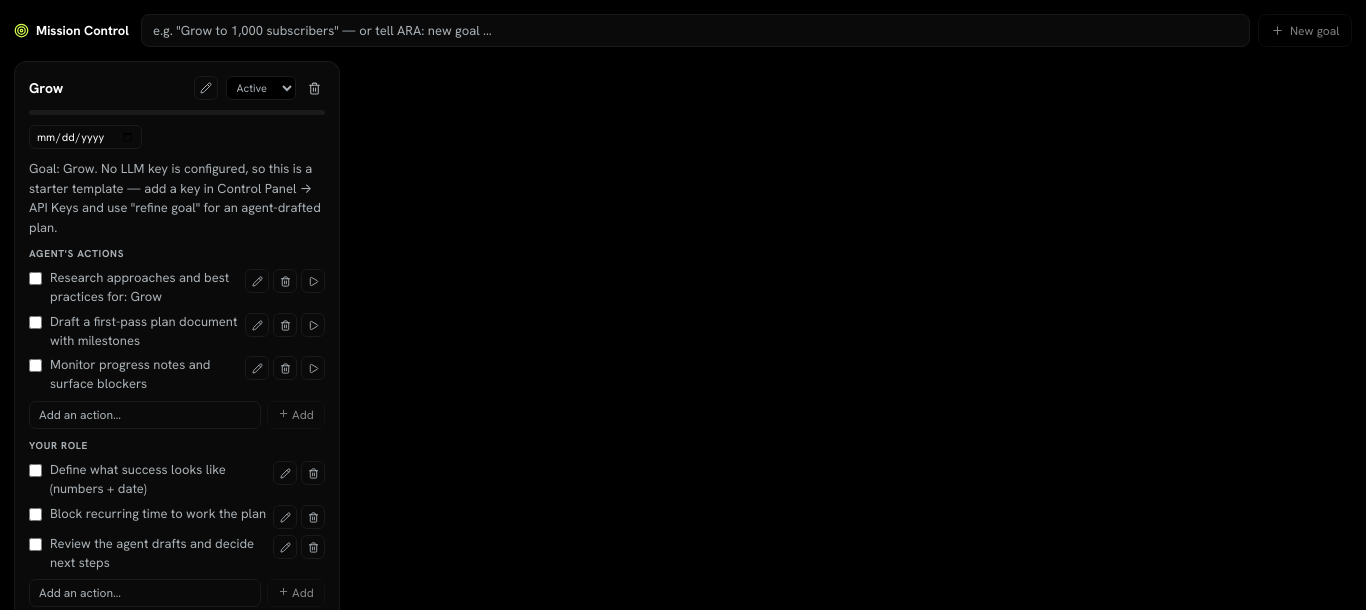
Test case: action add / edit / remove › adds, edits, and removes an agent action
Type "Brand new action" into the field with placeholder "Add an action…" below "Agent's actions".
click(145, 415); type("Brand new action")  # box x1=29 y1=401 x2=261 y2=429
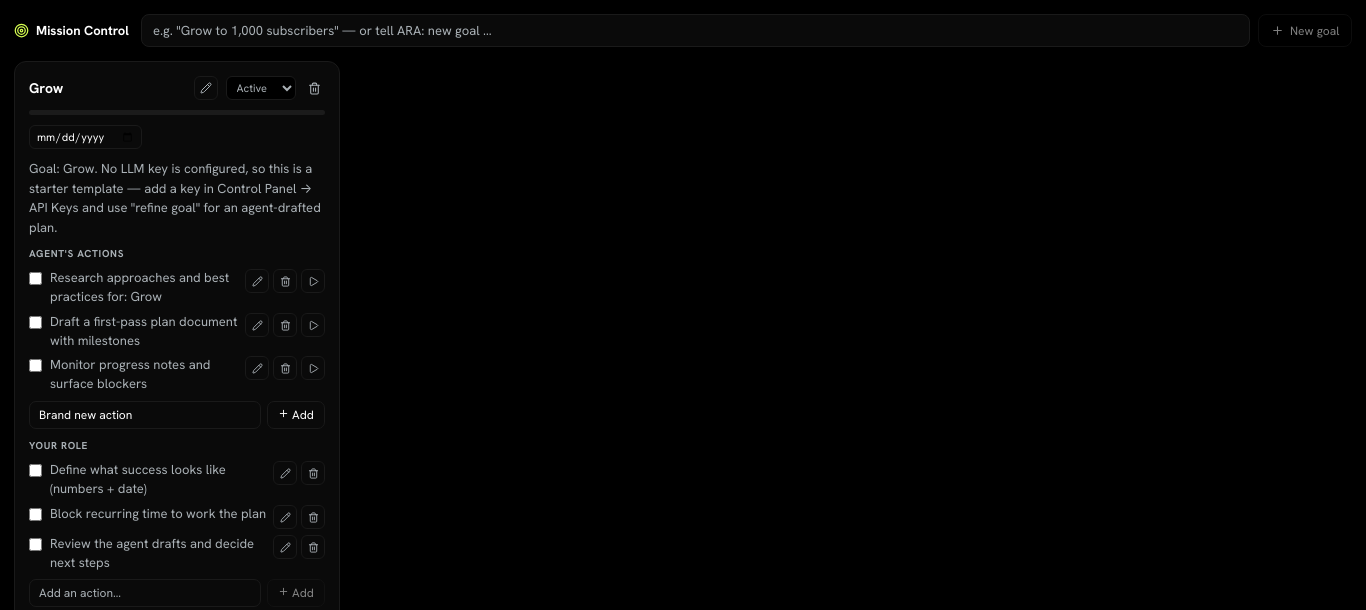
Submit the form "Add" below "Agent's actions", box x1=29 y1=401 x2=324 y2=429
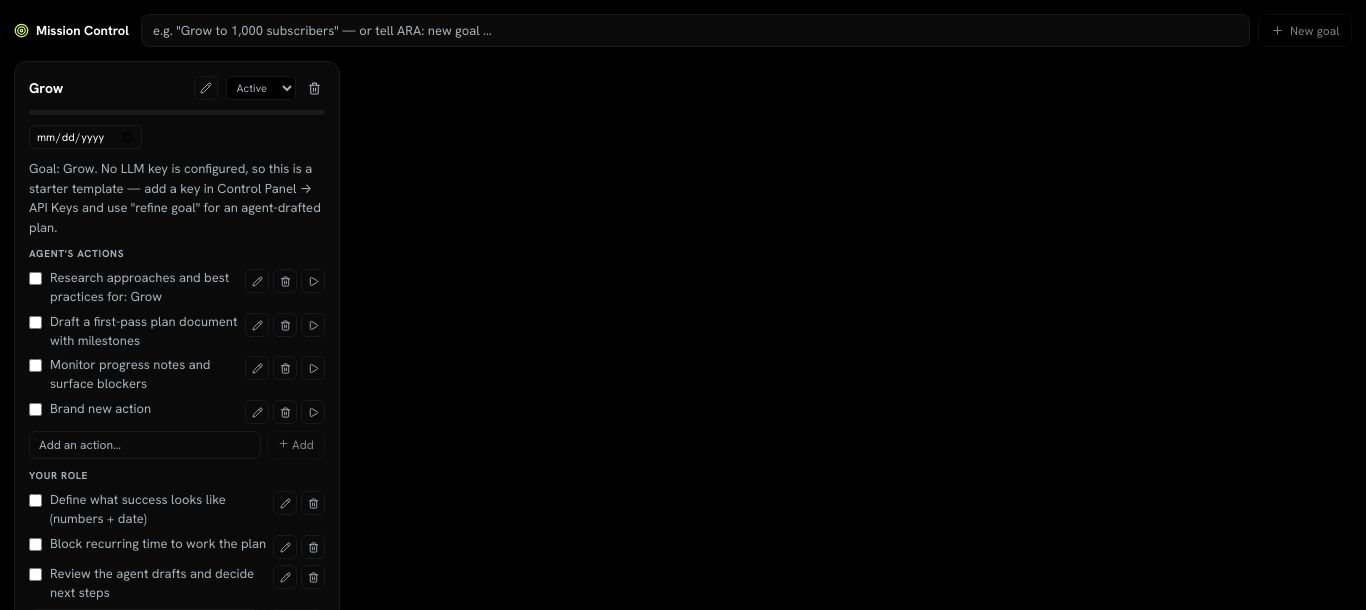
Now the text "Brand new action" is shown, box x1=50 y1=400 x2=151 y2=417
Click the button named "Edit action: Brand new action".
click(256, 412)  # box x1=244 y1=400 x2=268 y2=424
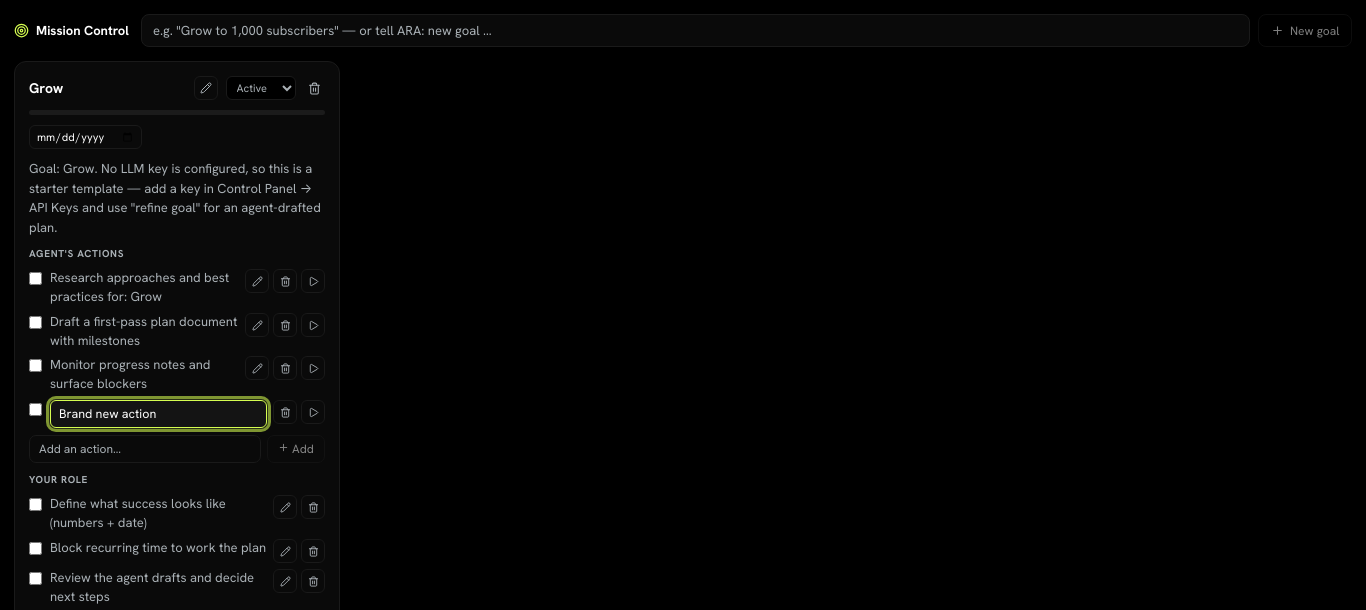
Replace the text in the field named "Action text" with "Edited action" at (158,414), box x1=50 y1=400 x2=266 y2=428
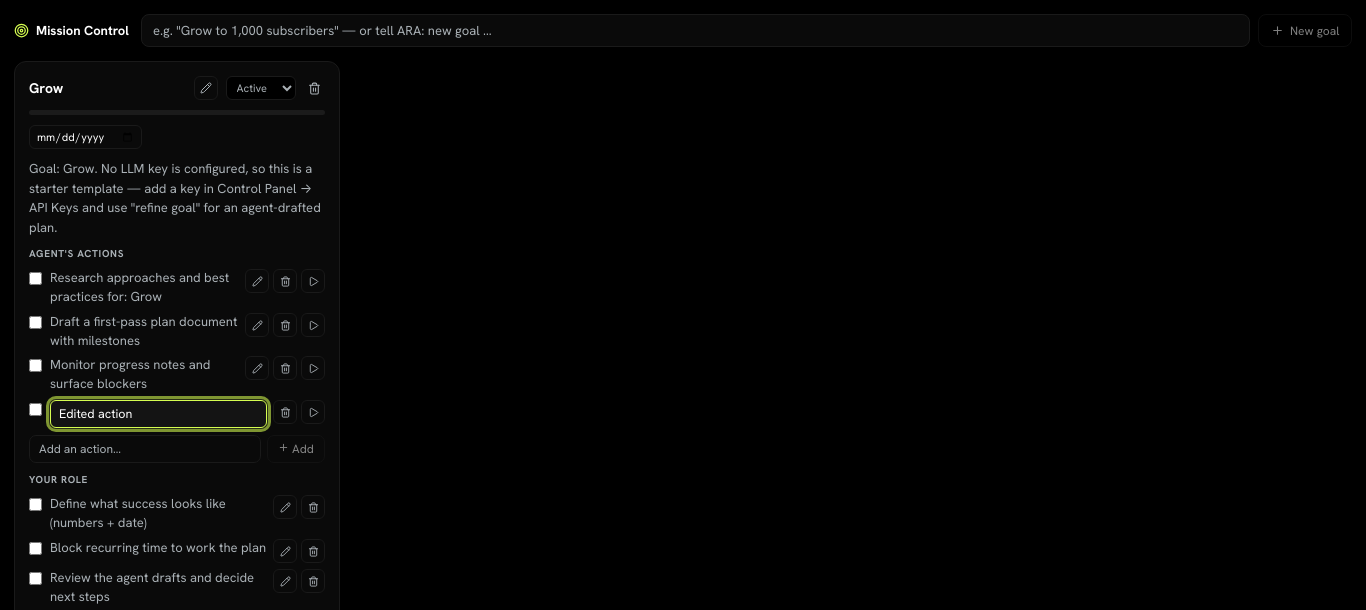
Press Enter in the field named "Action text", box x1=50 y1=400 x2=266 y2=428
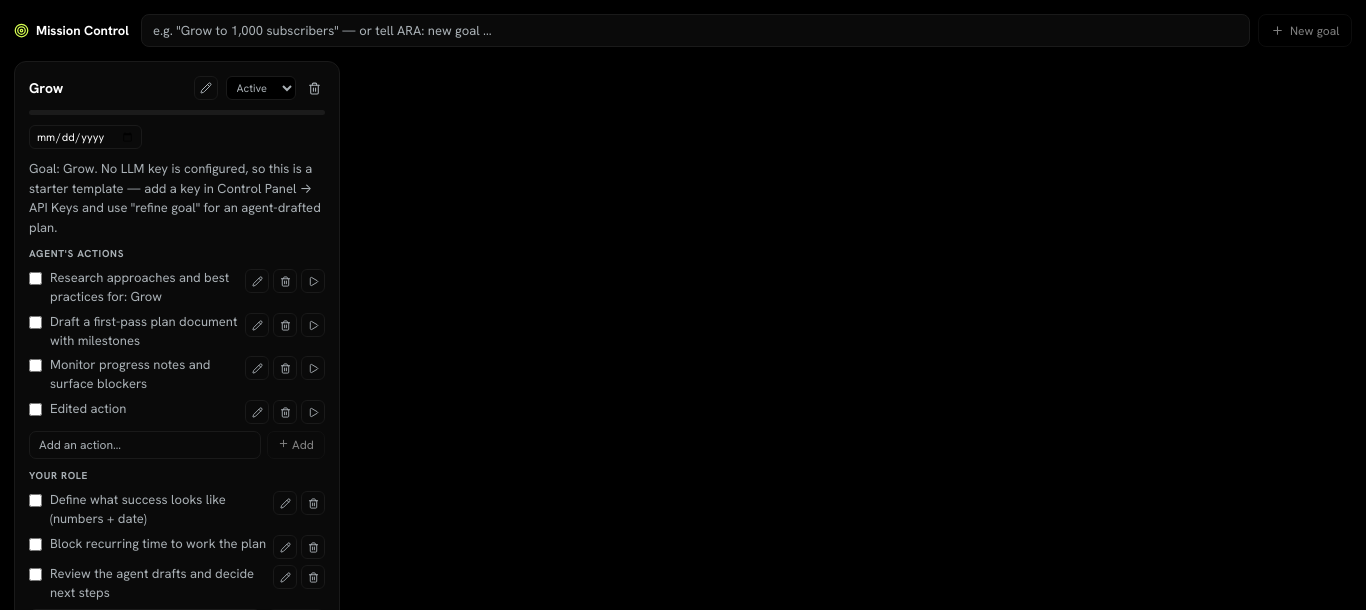
Expected: the text "Brand new action" is not shown
Now the text "Edited action" is shown, box x1=50 y1=400 x2=126 y2=417
Click the button named "Remove action: Edited action".
click(284, 412)  # box x1=272 y1=400 x2=296 y2=424
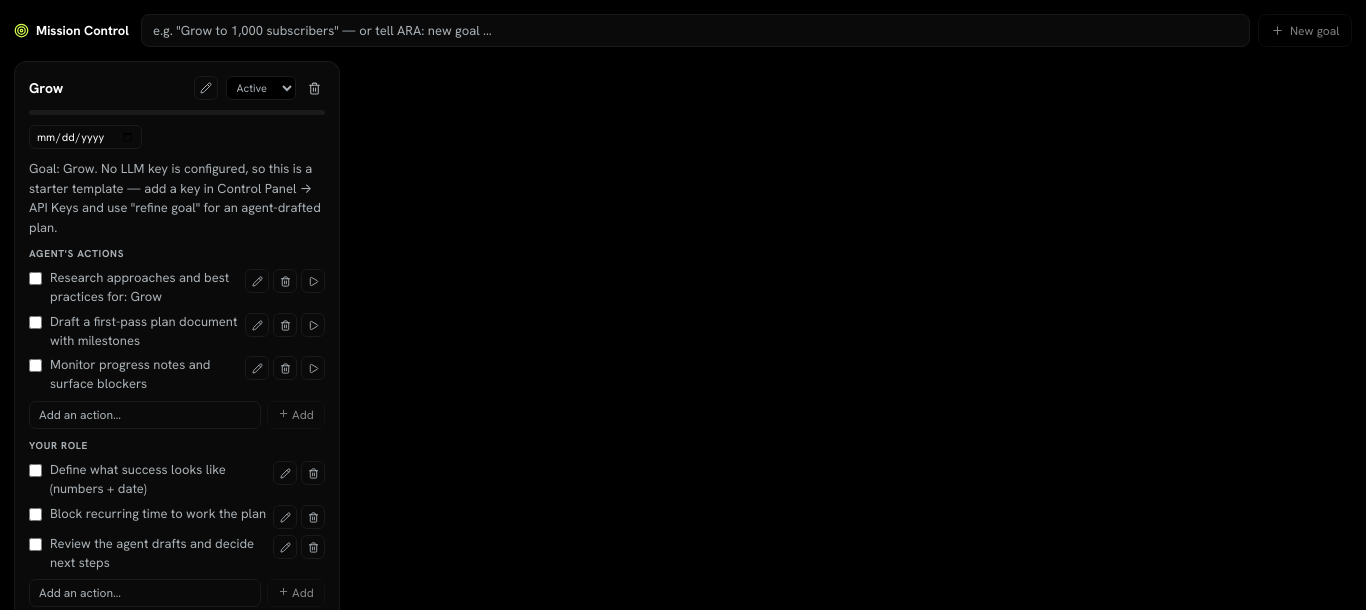
Now the text "Edited action" is gone
